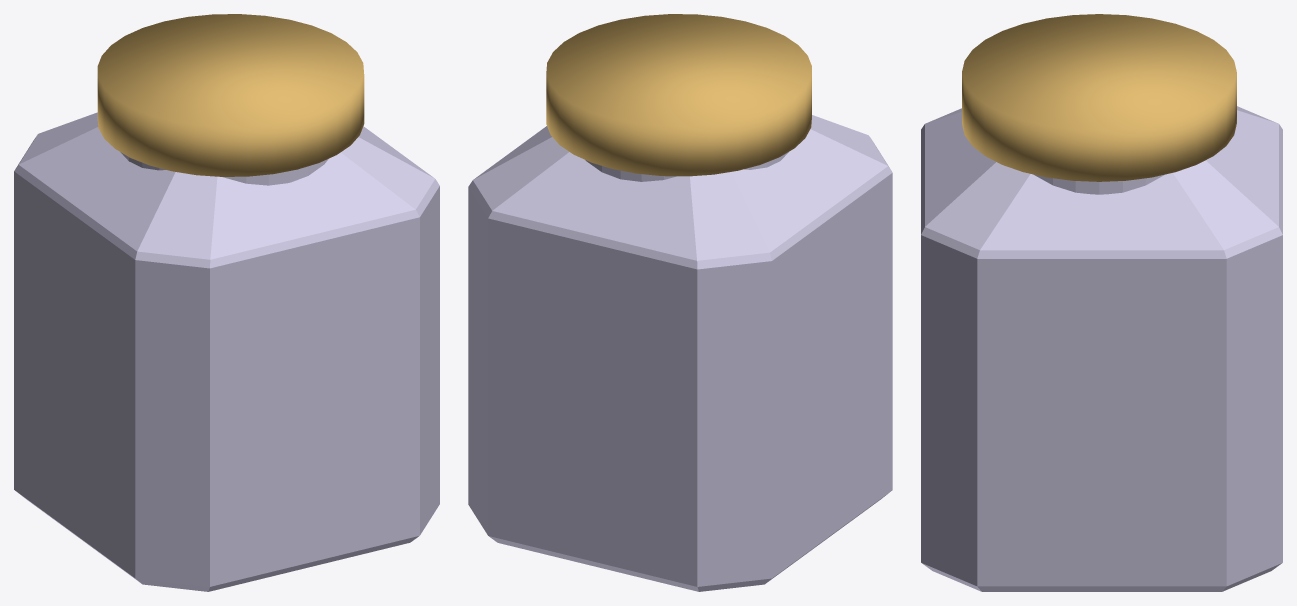
3 renders of one model, left to right at view 1: azimuth 30°, elevation 25°; view 2: azimuth 150°, elevation 25°; view 3: azimuth 270°, elevation 25°, orthographic. The views are drawn at different scales.
Parts seen in each view (by area): view 1: botella, tapa; view 2: botella, tapa; view 3: botella, tapa.
Boxes of the visible parts, bbox=[...] form: botella: bbox=[14, 112, 439, 591]; tapa: bbox=[97, 14, 364, 176]; botella: bbox=[468, 115, 892, 591]; tapa: bbox=[546, 14, 811, 176]; botella: bbox=[921, 106, 1282, 591]; tapa: bbox=[962, 14, 1236, 181].
Bounding box in the file's own units: 2 × 2.74 × 2.
